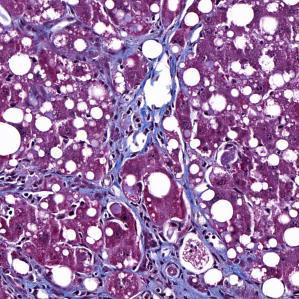fibrosis: (133, 222, 262, 299), (109, 41, 183, 147)
